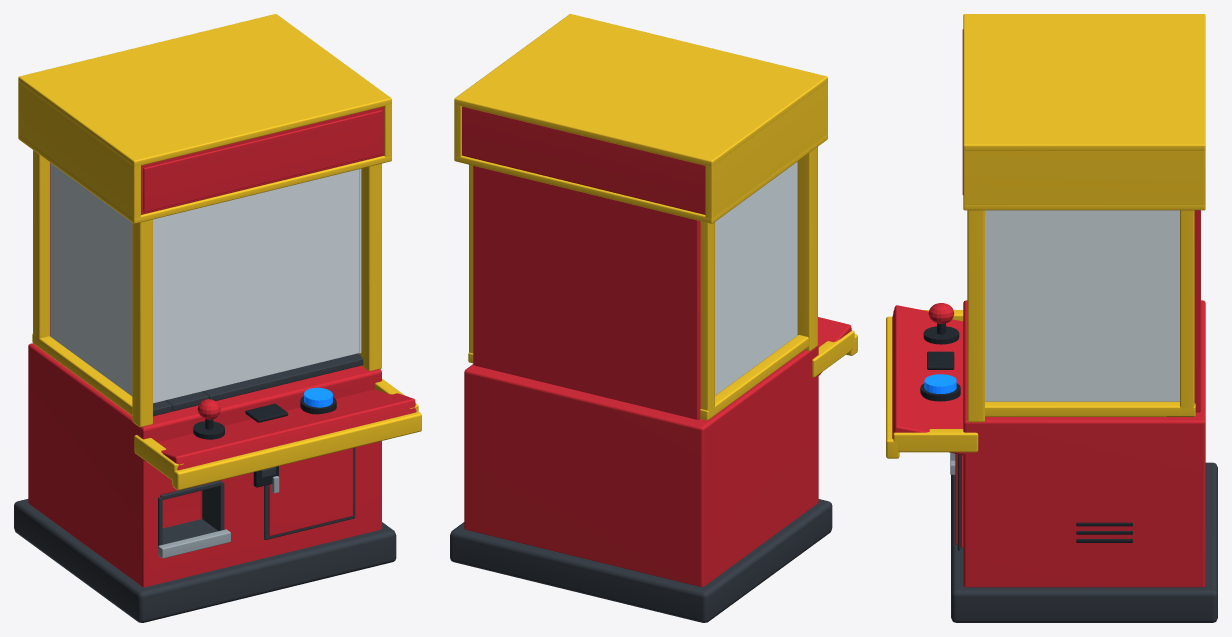
The model's file is claw-machine-v1.fbx.
3 views of the same model, side by side, from view 1: azimuth 30°, elevation 25°; view 2: azimuth 150°, elevation 25°; view 3: azimuth 270°, elevation 25° (orthographic). The views are drawn at different scales.
Parts seen in each view (by area): view 1: Glass front panel, Lower cabinet, Marquee yellow top, Glass left panel, Plinth, Blank marquee face, Control deck, Marquee yellow left, Door inset, Control deck yellow front, Yellow front upright, Yellow front upright.001 (+10 smaller); view 2: Lower cabinet, Solid red rear wall, Marquee yellow top, Glass left panel, Plinth, Marquee red body, Marquee yellow left, Yellow front upright, Yellow rear upright, Marquee yellow bottom, Yellow side sill, Control deck yellow end (+2 smaller); view 3: Lower cabinet, Glass right panel, Marquee yellow top, Marquee yellow right, Plinth, Control deck, Yellow front upright.001, Yellow side sill.001, Yellow rear upright.001, Control deck yellow end.001, Marquee yellow bottom, Solid red rear wall (+4 smaller).
Boxes of the visible parts, <box> form: Glass front panel: <box>153,169,358,403</box>; Lower cabinet: <box>28,343,381,587</box>; Marquee yellow top: <box>18,14,391,166</box>; Glass left panel: <box>50,163,132,396</box>; Plinth: <box>14,499,396,622</box>; Blank marquee face: <box>143,110,382,212</box>; Control deck: <box>141,389,416,470</box>; Marquee yellow left: <box>18,82,140,218</box>; Door inset: <box>268,448,352,536</box>; Control deck yellow front: <box>172,411,421,490</box>; Yellow front upright: <box>132,219,152,427</box>; Yellow front upright.001: <box>361,163,381,370</box>; Lower cabinet: <box>464,345,818,586</box>; Solid red rear wall: <box>473,166,700,419</box>; Marquee yellow top: <box>454,14,827,166</box>; Glass left panel: <box>715,161,797,395</box>; Plinth: <box>450,499,832,622</box>; Marquee red body: <box>462,106,705,214</box>; Marquee yellow left: <box>705,82,827,218</box>; Yellow front upright: <box>797,147,817,351</box>; Yellow rear upright: <box>700,221,714,417</box>; Marquee yellow bottom: <box>454,134,827,223</box>; Yellow side sill: <box>700,335,808,420</box>; Control deck yellow end: <box>812,330,854,377</box>; Lower cabinet: <box>963,300,1205,587</box>; Glass right panel: <box>985,210,1179,401</box>; Marquee yellow top: <box>963,14,1205,150</box>; Marquee yellow right: <box>963,150,1205,204</box>; Plinth: <box>951,462,1217,622</box>; Control deck: <box>892,305,973,455</box>; Yellow front upright.001: <box>967,210,984,422</box>; Yellow side sill.001: <box>985,401,1195,416</box>; Yellow rear upright.001: <box>1180,210,1194,414</box>; Control deck yellow end.001: <box>893,429,978,452</box>; Marquee yellow bottom: <box>963,205,1205,210</box>; Solid red rear wall: <box>1194,210,1200,412</box>.
Bounding box in the file's own units: 7 × 11.91 × 7.46.
